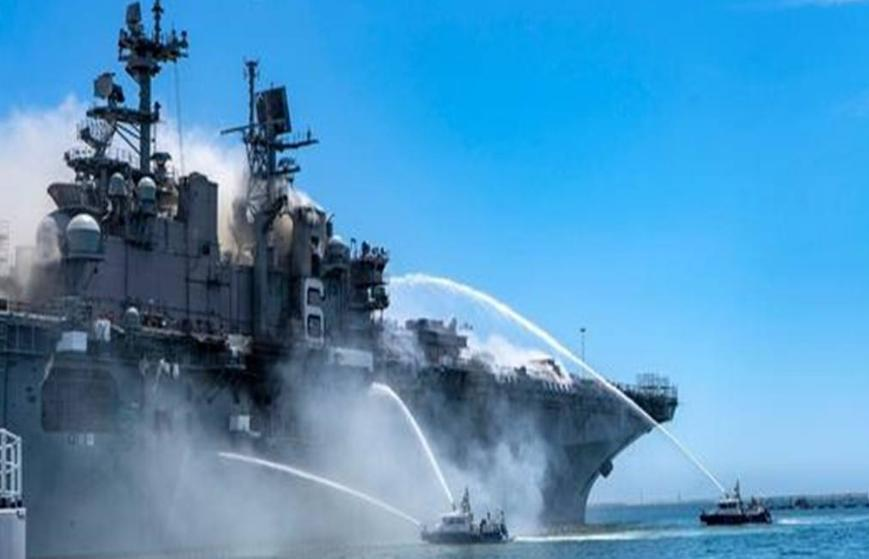otherboat: (384, 487, 512, 546), (692, 477, 770, 526)
warship: (1, 2, 689, 548)
